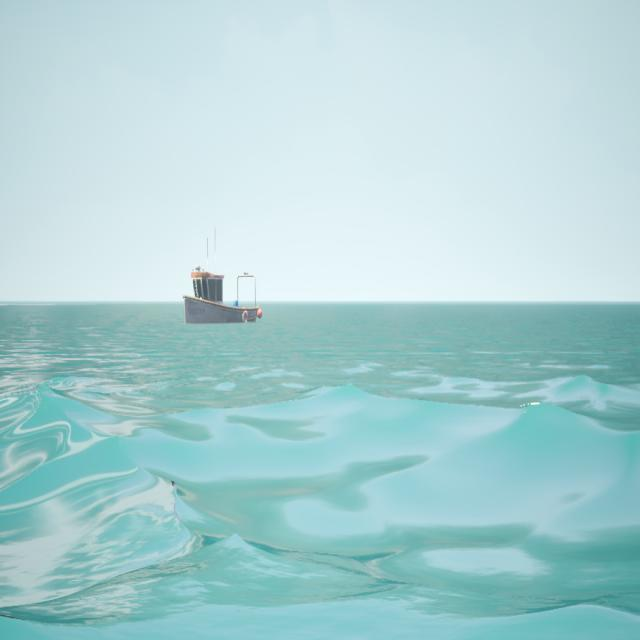ship: (180, 220, 270, 338)
